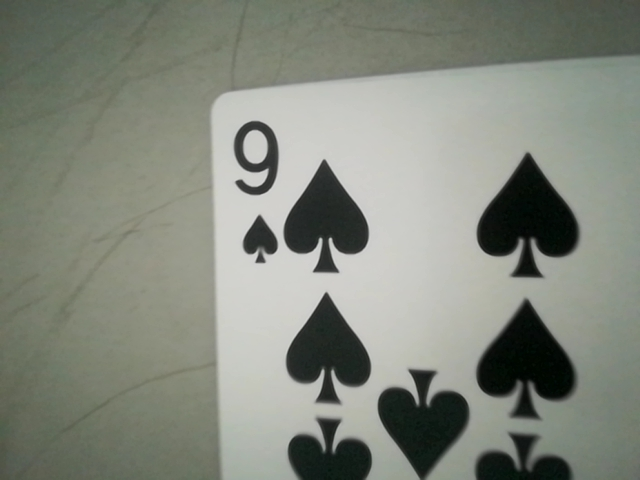ht 9: (217, 107, 294, 267)
